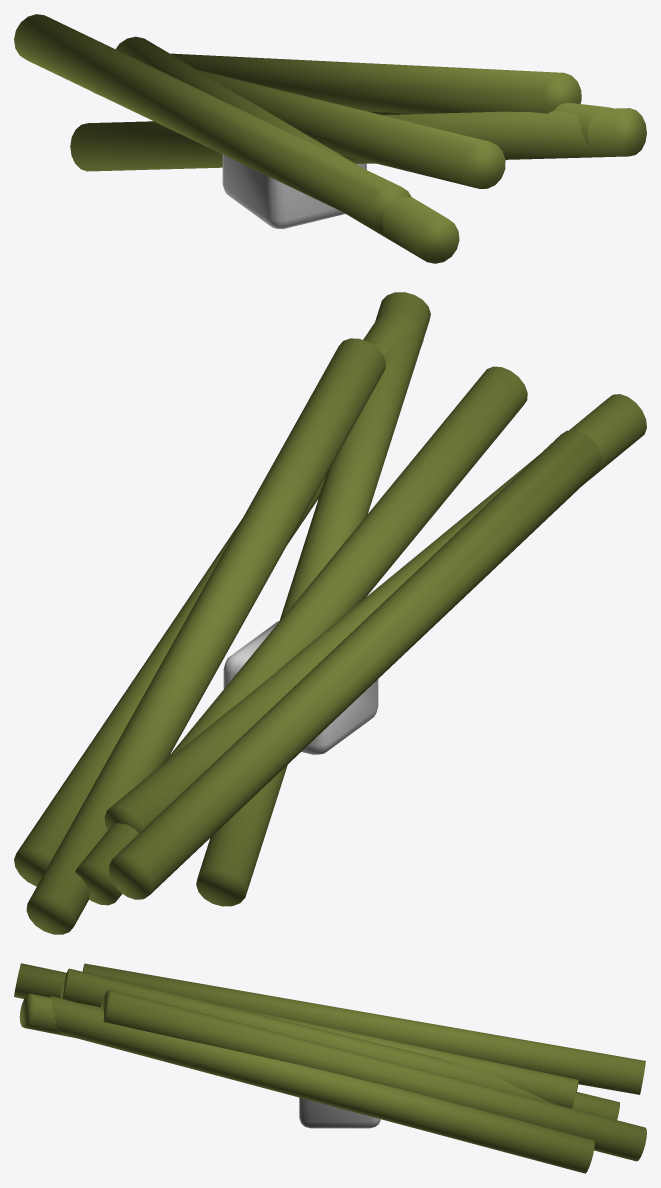
The model's file is fiber-bundle.obj.
3 renders of one model, top to bottom at view 1: azimuth 30°, elevation 25°; view 2: azimuth 150°, elevation 25°; view 3: azimuth 270°, elevation 25°, orthographic. The views are drawn at different scales.
Parts seen in each view (by area): view 1: fiber-bundle; view 2: fiber-bundle; view 3: fiber-bundle.
Boxes of the visible parts, x1,y1,x2,y2 form: fiber-bundle: [14, 14, 646, 263]; fiber-bundle: [14, 292, 646, 934]; fiber-bundle: [14, 963, 646, 1173].
Bounding box in the file's own units: 0.1834 × 0.1986 × 0.5774.
